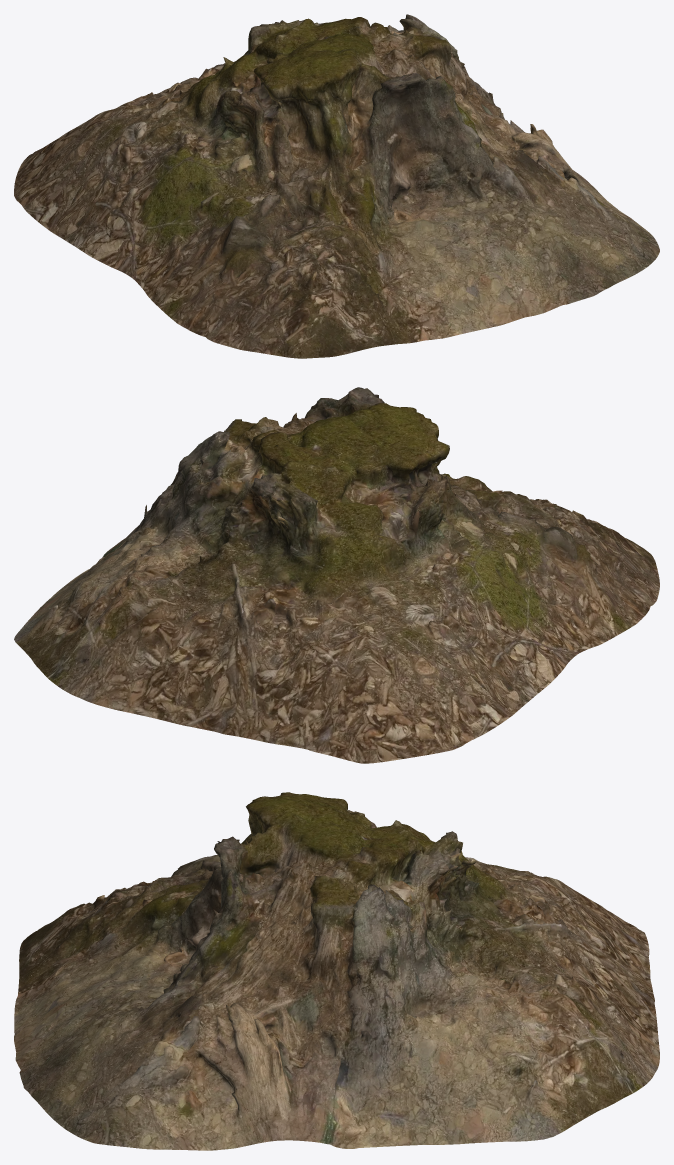
File: stump.glb
3 views of the same model, one above another, from view 1: azimuth 30°, elevation 25°; view 2: azimuth 150°, elevation 25°; view 3: azimuth 270°, elevation 25° (orthographic). The views are drawn at different scales.
Parts seen in each view (by area): view 1: tree_stump_01; view 2: tree_stump_01; view 3: tree_stump_01.
Boxes of the visible parts, bbox=[...] form: tree_stump_01: bbox=[14, 14, 659, 358]; tree_stump_01: bbox=[14, 387, 659, 763]; tree_stump_01: bbox=[14, 792, 659, 1150].
Size of the model in its own units: 1.43 by 0.5726 by 1.59.
Materials: 1 (1 with a texture image).
